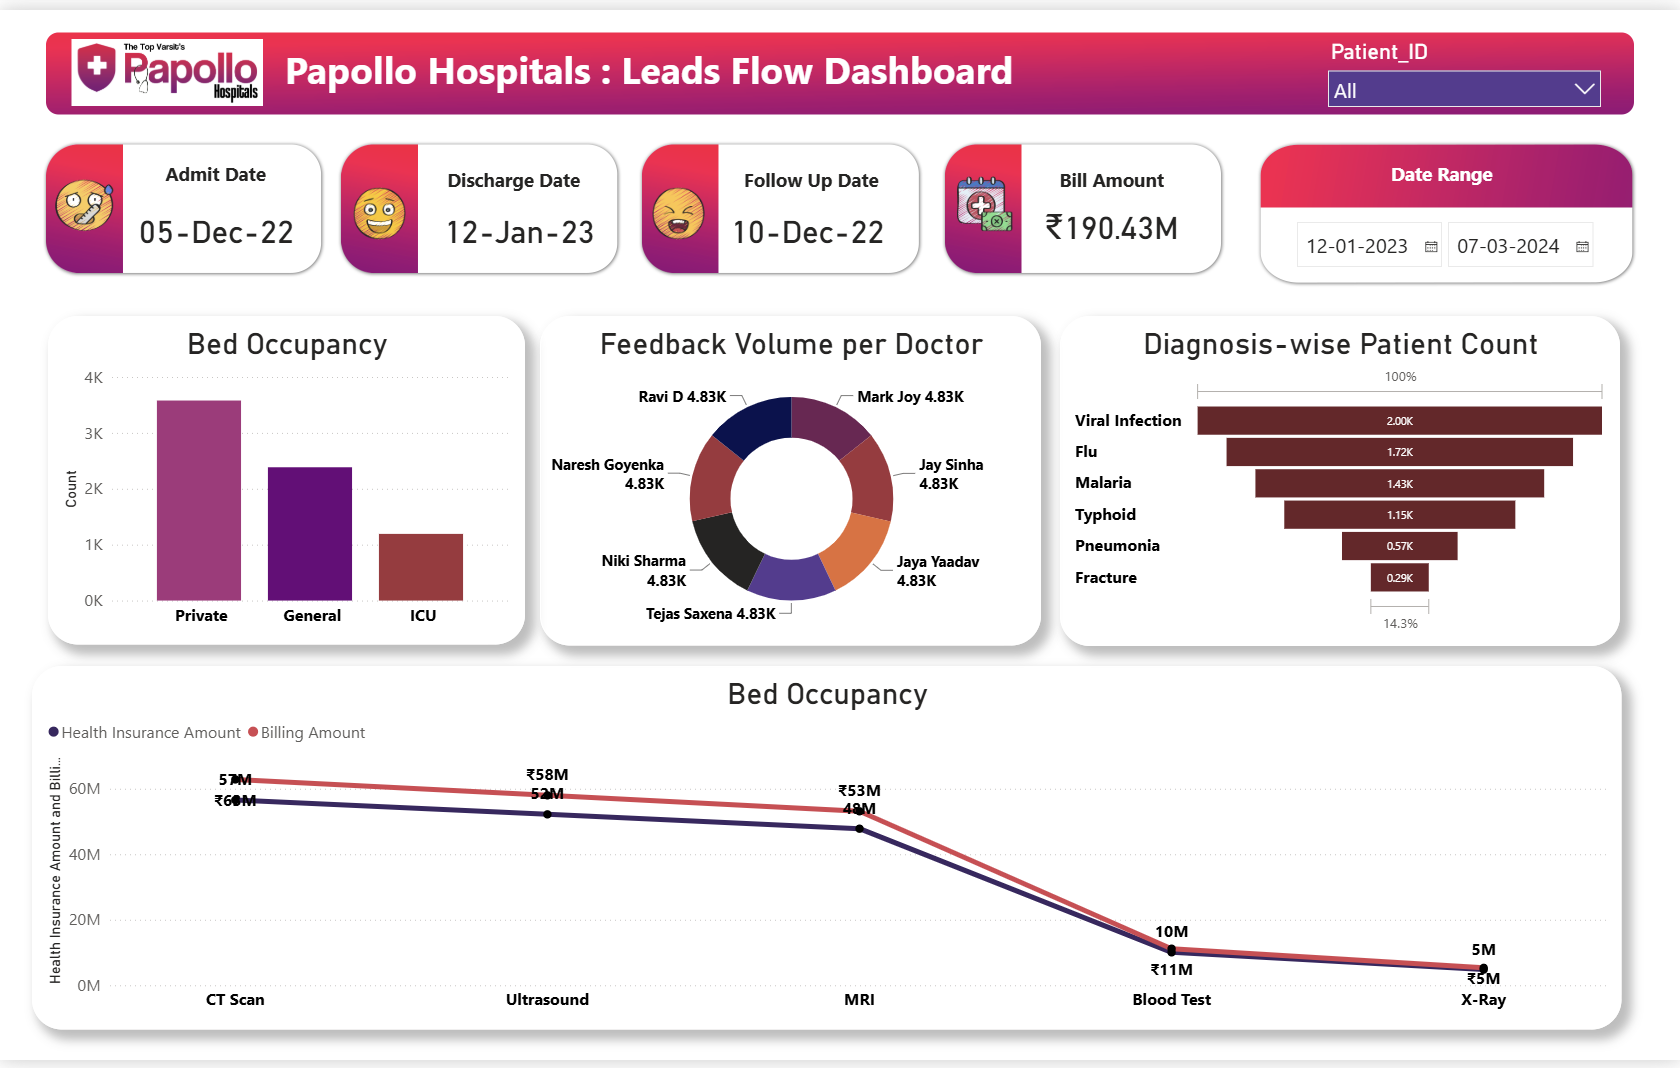

The dashboard page shown, as its layout file describes it:
{"tool":"powerbi","page":{"name":"Page 2","canvas":[1680,1050],"ordinal":0},"visuals":[{"type":"textbox","box":[280,27.1,755.7,74.3],"z":0},{"type":"image","box":[2636.7,100,623.3,150],"z":1000},{"type":"slicer","fields":{"Values":["Sheet1.Patient_ID"]},"box":[2400,373.3,793.3,420],"z":2000},{"type":"card","fields":{"Values":["Min(Sheet1.Admit_Date)"]},"box":[437.6,198.8,162.9,42.8],"z":3000},{"type":"card","fields":{"Values":["Min(Sheet1.Discharge_Date)"]},"box":[129.8,198.8,172.6,42.8],"z":4000},{"type":"card","fields":{"Values":["Min(Sheet1.Followup Date)"]},"box":[724.3,198.6,167.1,42.9],"z":5000},{"type":"textbox","box":[152.9,145.7,127.1,57.1],"z":6000},{"type":"textbox","box":[437.1,151.4,151.4,37.1],"z":7000},{"type":"textbox","box":[732.9,151.4,158.6,37.1],"z":8000},{"type":"textbox","box":[1035.7,151.4,151.4,37.1],"z":9000},{"type":"card","fields":{"Values":["Sum(Sheet1.Billing Amount)"]},"box":[1031.4,194.3,158.6,42.9],"z":10000},{"type":"image","box":[50,157.1,68.6,74.3],"z":11000},{"type":"image","box":[348.6,172.9,62.9,62.9],"z":12000},{"type":"image","box":[640,171.4,77.1,62.9],"z":13000},{"type":"image","box":[951.4,158.6,65.7,71.4],"z":14000},{"type":"columnChart","title":"Bed Occupancy","fields":{"Category":["Sheet1.Bed_Occupancy"],"Y":["CountNonNull(Sheet1.Bed_Occupancy)"]},"box":[47.1,305.7,477.1,328.6],"z":15000},{"type":"donutChart","title":"Feedback Volume per Doctor","fields":{"Category":["Sheet1.Doctor"],"Y":["Sum(Sheet1.Feedback)"]},"box":[540.2,305.2,501,329.5],"z":16000},{"type":"funnel","title":"Diagnosis-wise Patient Count","fields":{"Category":["Sheet1.Diagnosis"],"Y":["CountNonNull(Sheet1.Diagnosis)"]},"box":[1060,305.7,560,330],"z":17000},{"type":"image","box":[30,24.3,274.3,77.1],"z":18000},{"type":"lineChart","title":"Bed Occupancy","fields":{"Y":["Sum(Sheet1.Health Insurance Amount)","Sum(Sheet1.Billing Amount)"],"Category":["Sheet1.Test"]},"box":[31.1,656.3,1589.5,363.3],"z":19000},{"type":"slicer","fields":{"Values":["Sheet1.Admit_Date"]},"box":[1284.3,201.2,360.6,68.9],"z":20000},{"type":"slicer","fields":{"Values":["Sheet1.Patient_ID"]},"box":[1317.1,24.3,292.9,82.9],"z":21000},{"type":"textbox","box":[1365.7,145.7,151.4,37.1],"z":22000}]}

Visuals, with their boxes in screenshot pixels (x1, y1, x2, y2), scaled from the page's 1680x1050 canvas onto the 1680x1068 screenshot:
textbox: 280,28,1036,103
card - Min(Sheet1.Admit_Date): 438,202,600,246
card - Min(Sheet1.Discharge_Date): 130,202,302,246
card - Min(Sheet1.Followup Date): 724,202,891,246
textbox: 153,148,280,206
textbox: 437,154,588,192
textbox: 733,154,892,192
textbox: 1036,154,1187,192
card - Sum(Sheet1.Billing Amount): 1031,198,1190,241
image: 50,160,119,235
image: 349,176,412,240
image: 640,174,717,238
image: 951,161,1017,234
"Bed Occupancy" columnChart: 47,311,524,645
"Feedback Volume per Doctor" donutChart: 540,310,1041,646
"Diagnosis-wise Patient Count" funnel: 1060,311,1620,647
image: 30,25,304,103
"Bed Occupancy" lineChart: 31,668,1621,1037
slicer - Sheet1.Admit_Date: 1284,205,1645,275
slicer - Sheet1.Patient_ID: 1317,25,1610,109
textbox: 1366,148,1517,186
